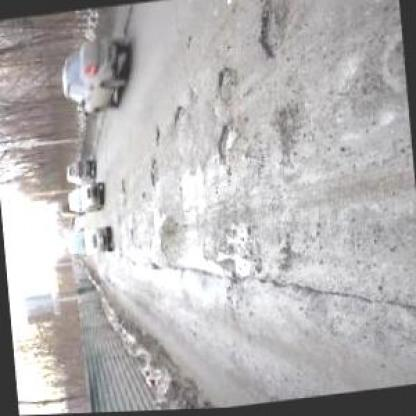pothole: (251, 0, 294, 61), (211, 122, 240, 164), (272, 107, 304, 144), (209, 63, 243, 96), (142, 158, 164, 189), (166, 107, 186, 125), (150, 125, 161, 148)
